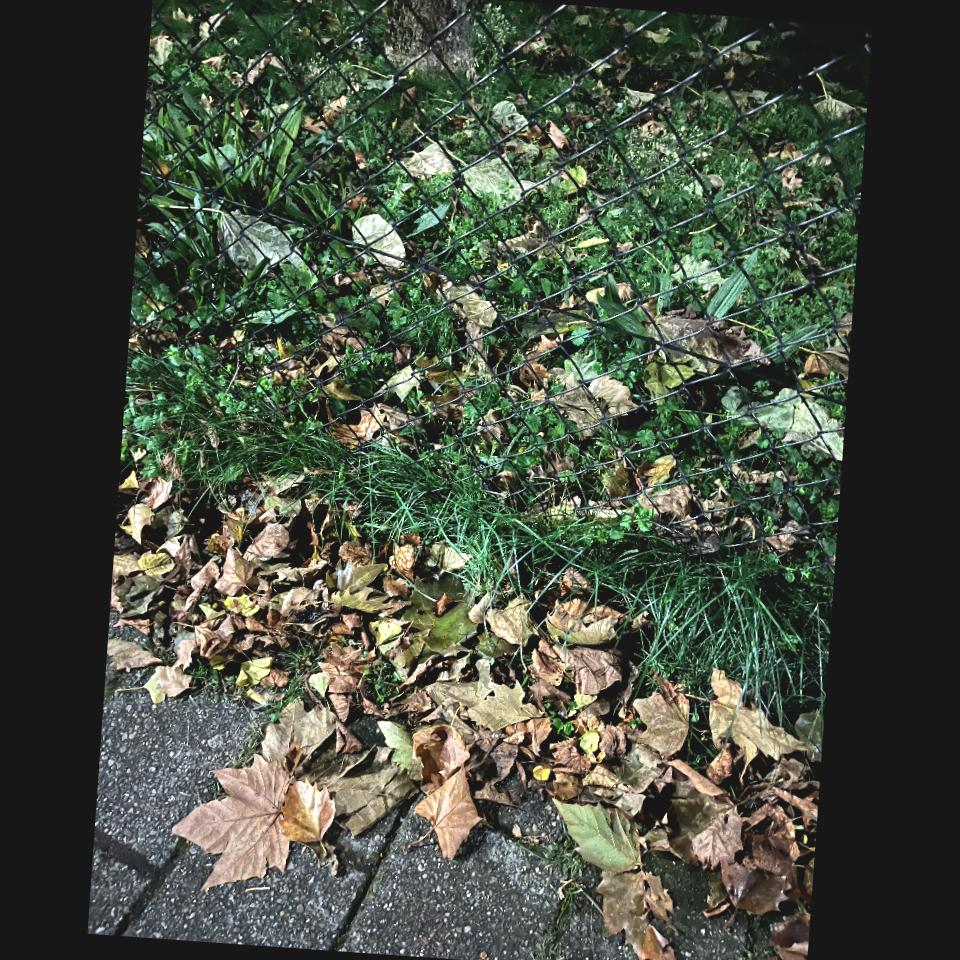weed: (541, 851, 578, 939)
